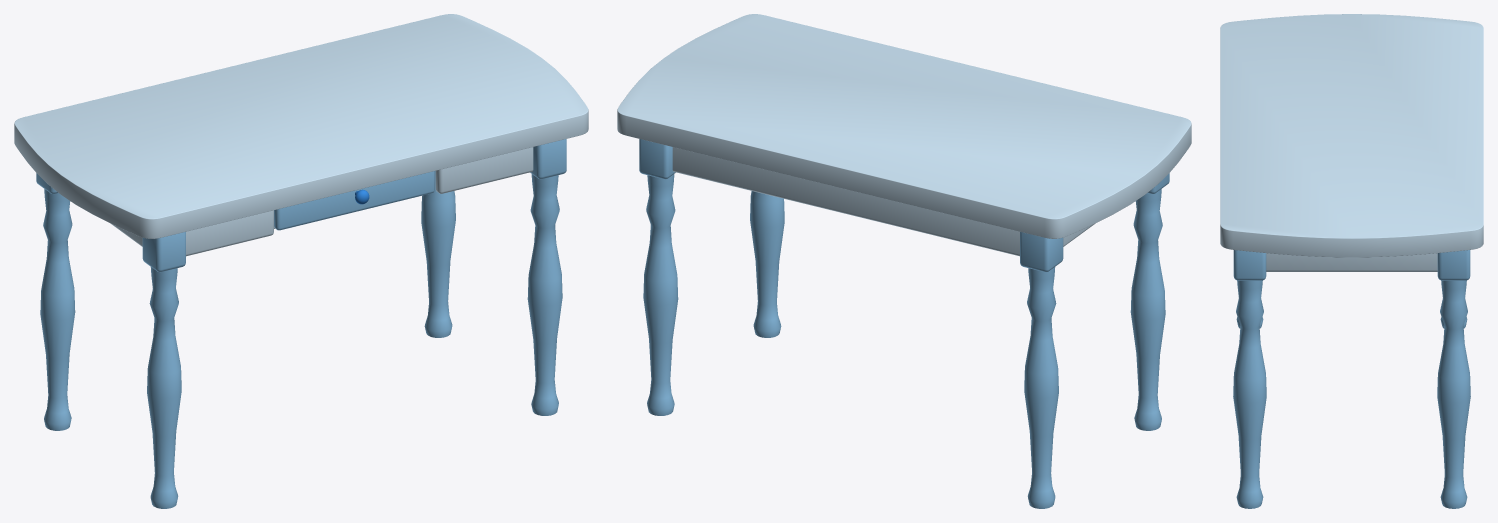
File: mesa_jantar_pes_torneados_azul_claro.glb
3 views of the same model, side by side, from view 1: azimuth 30°, elevation 25°; view 2: azimuth 150°, elevation 25°; view 3: azimuth 270°, elevation 25° (orthographic). The views are drawn at different scales.
Visible parts, largest first — view 1: mesa_jantar_pes_torneados_azul_claro, gaveta_1; view 2: mesa_jantar_pes_torneados_azul_claro; view 3: mesa_jantar_pes_torneados_azul_claro.
Boxes of the visible parts, x1,y1,x2,y2 form: mesa_jantar_pes_torneados_azul_claro: (14, 14, 588, 508); gaveta_1: (274, 171, 434, 230); mesa_jantar_pes_torneados_azul_claro: (617, 14, 1191, 508); mesa_jantar_pes_torneados_azul_claro: (1220, 14, 1483, 508).
Bounding box in the file's own units: 1.25 × 0.75 × 0.62.
Materials: 1 (1 with a texture image).
